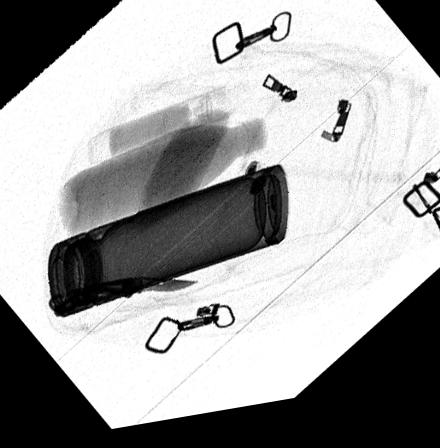Knife: (45, 279, 199, 319)
